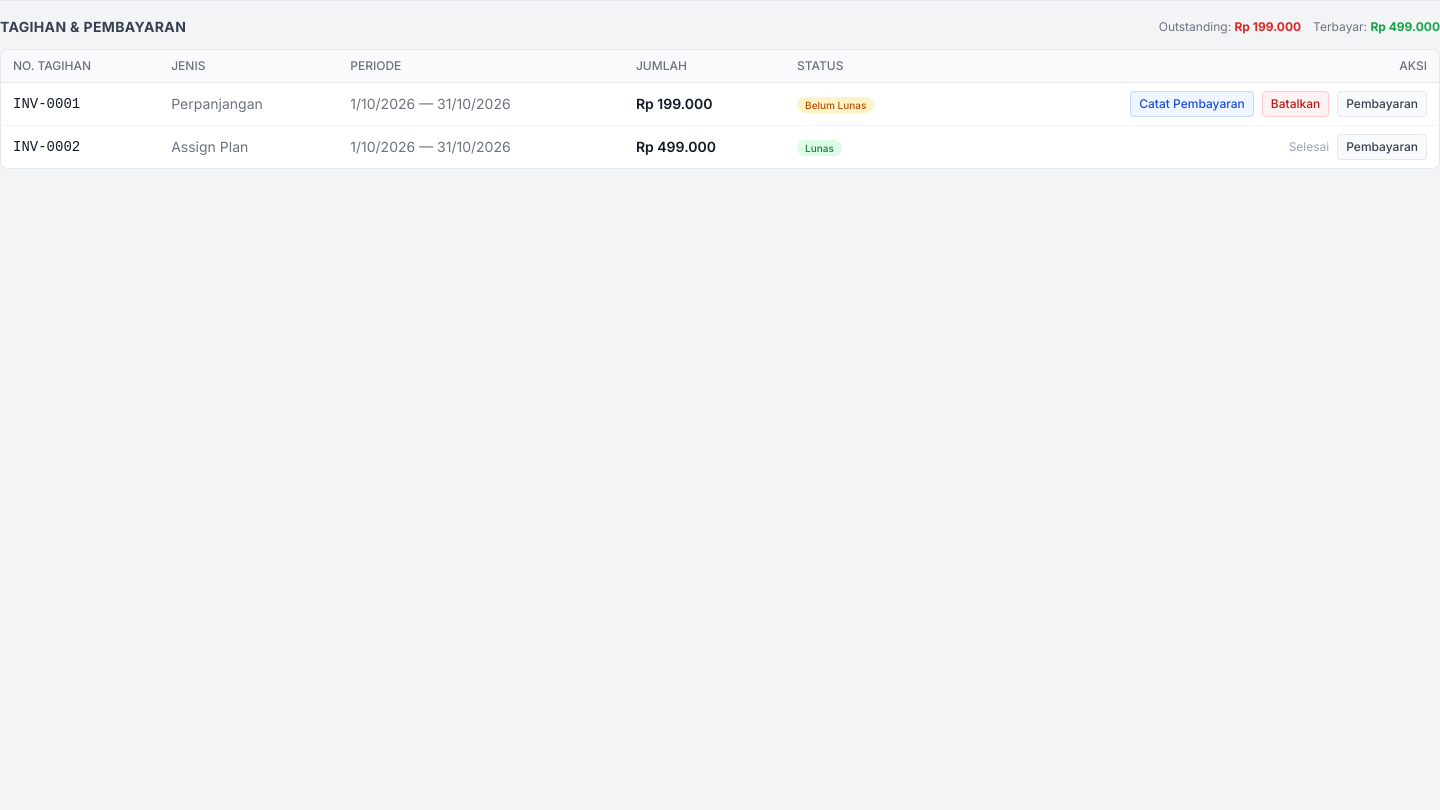
Scenario: TenantInvoicesSection › shows payment attempts for the selected invoice
This screenshot has width=1440, height=810.
Click the button "Pembayaran" in the row of "INV-0001" at (1382, 104), box x1=1337 y1=91 x2=1427 y2=117
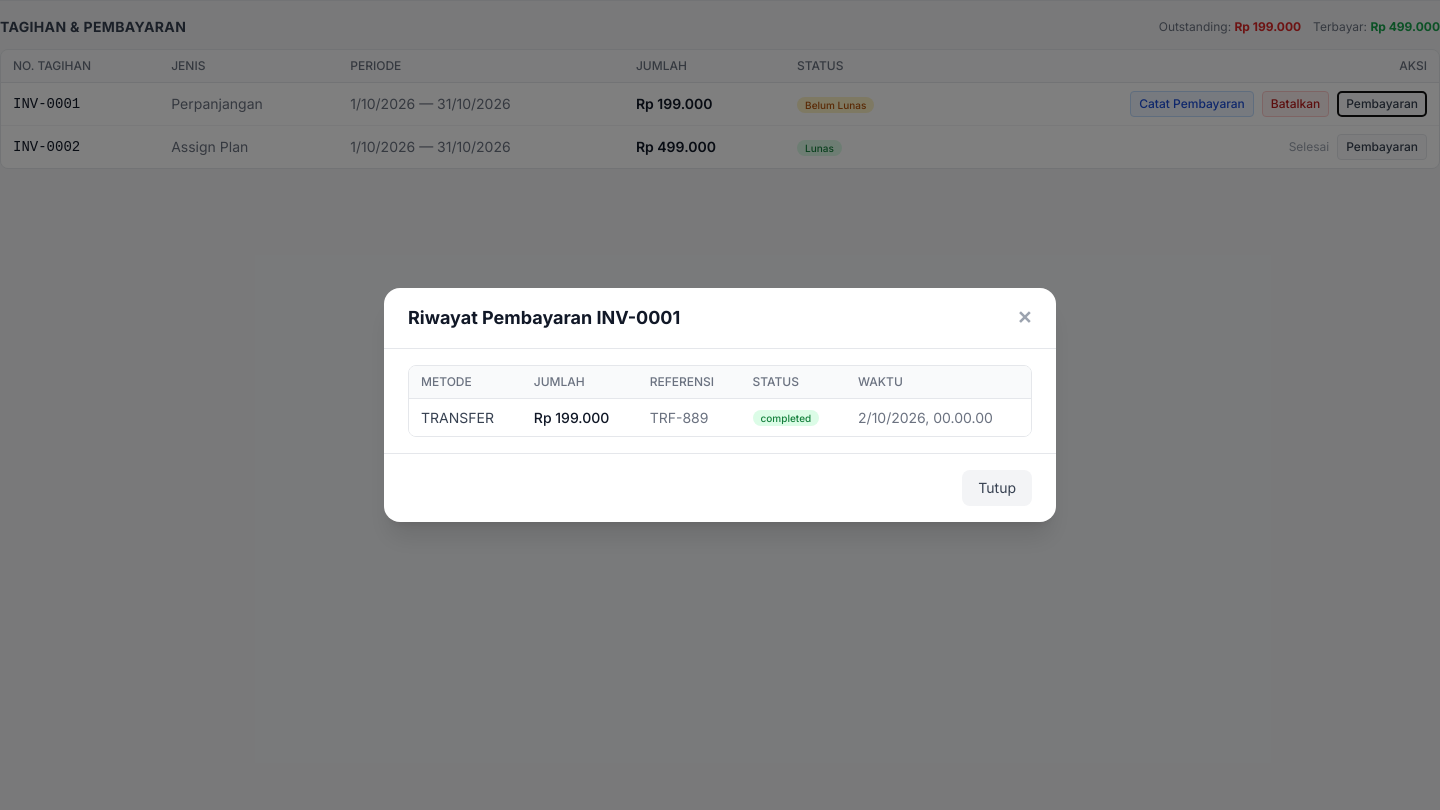
Result: the heading "Riwayat Pembayaran INV-0001" is shown at x1=408 y1=304 x2=680 y2=332
Result: the text "TRF-889" is shown at x1=638 y1=398 x2=740 y2=436
Result: the text "completed" is shown at x1=753 y1=410 x2=819 y2=426
